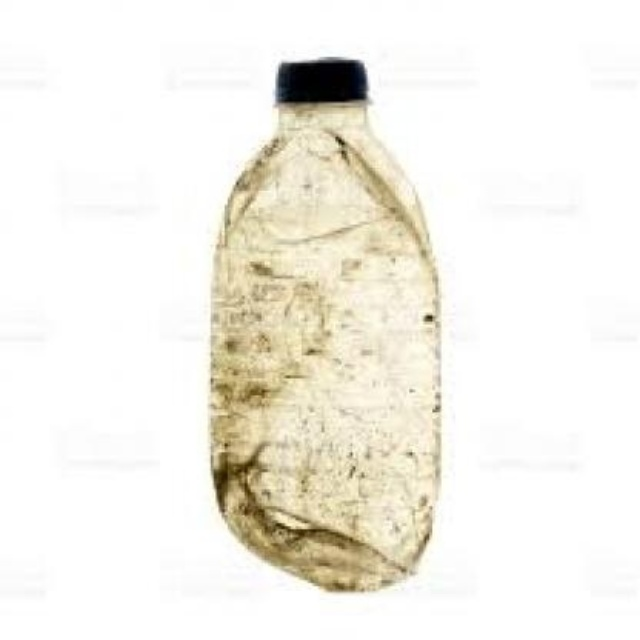trash: (211, 58, 440, 589)
